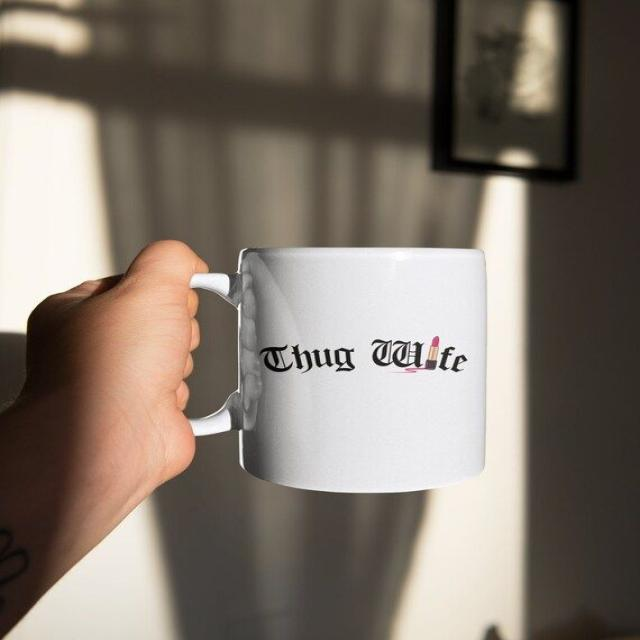glass cup: (178, 248, 486, 492)
